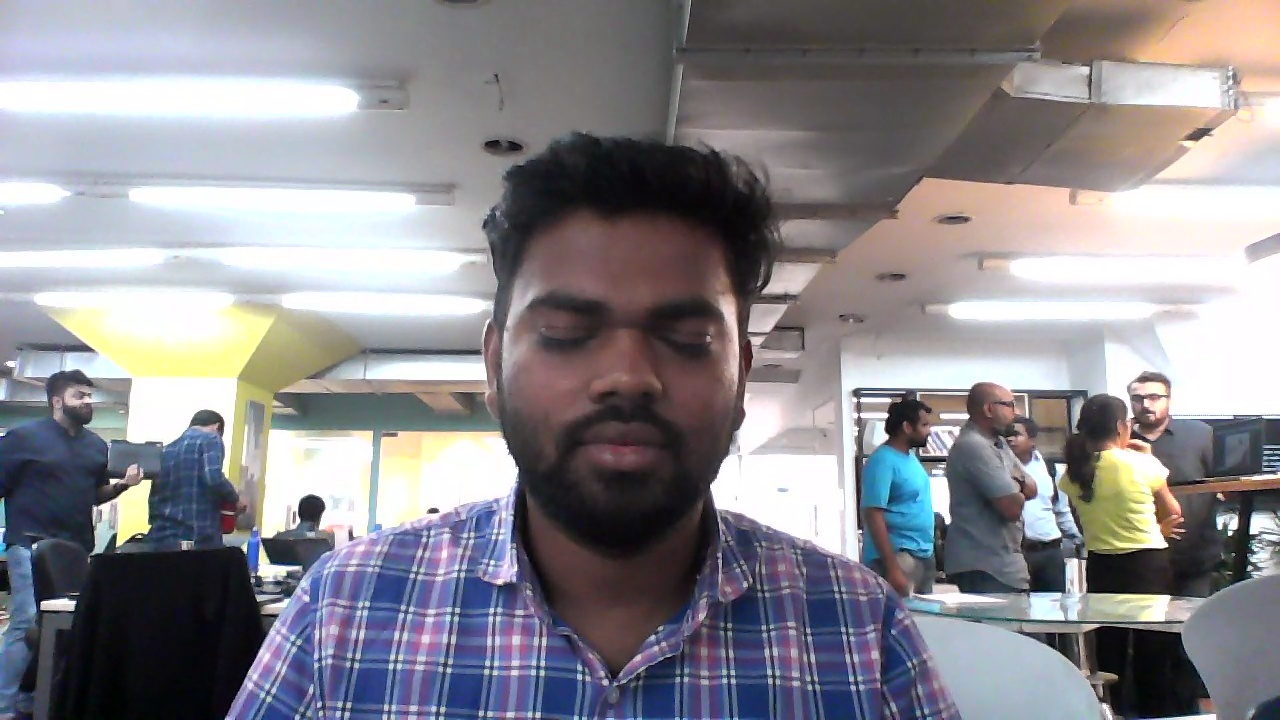closed: (489, 140, 756, 542)
